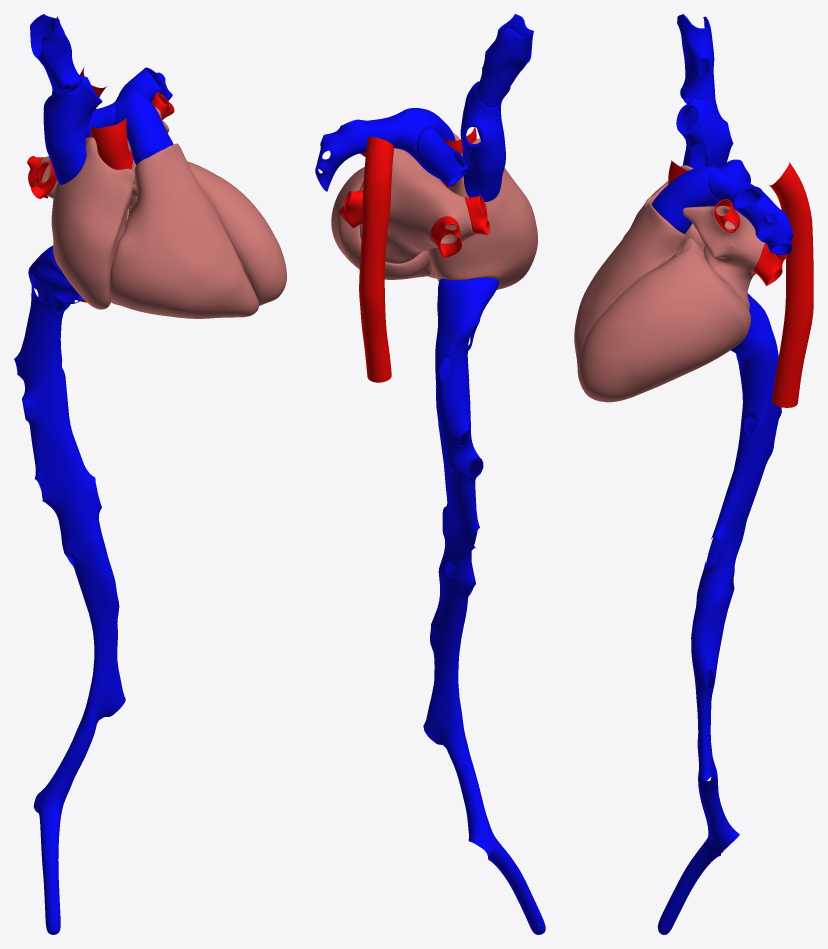
The model's file is heart.glb.
The picture shows the model from 3 angles, left to right: view 1: azimuth 30°, elevation 25°; view 2: azimuth 150°, elevation 25°; view 3: azimuth 270°, elevation 25°; orthographic projection. The views are drawn at different scales.
Visible parts, largest first — view 1: rv, ivc2, ra, lv, svc, ivc, pa, bcv, eil, cil, ao, lpa; view 2: ivc2, ra, dao, la, ivc, svc, bcv, lpa, lv, cil, rpa, eil (+4 smaller); view 3: lv, ivc2, dao, rv, la, lpa, svc, bcv, ivc, pa, cil, eil (+1 smaller).
Boxes of the visible parts, x1,y1,x2,y2 form: rv: [109, 143, 258, 318]; ivc2: [14, 319, 125, 720]; ra: [51, 137, 135, 309]; lv: [128, 161, 286, 305]; svc: [43, 74, 102, 184]; ivc: [28, 245, 83, 332]; pa: [112, 89, 173, 165]; bcv: [30, 14, 80, 93]; eil: [38, 806, 60, 934]; cil: [33, 712, 98, 815]; ao: [90, 118, 133, 169]; lpa: [118, 67, 172, 101]; ivc2: [423, 382, 483, 748]; ra: [428, 138, 537, 289]; dao: [359, 136, 393, 382]; la: [359, 148, 475, 263]; ivc: [435, 277, 498, 389]; svc: [460, 81, 505, 201]; bcv: [476, 14, 533, 107]; lpa: [315, 110, 408, 191]; lv: [331, 167, 431, 279]; cil: [446, 739, 496, 858]; rpa: [416, 126, 468, 185]; eil: [488, 839, 545, 934]; lv: [578, 238, 750, 402]; ivc2: [691, 378, 781, 780]; dao: [769, 162, 813, 407]; rv: [574, 203, 685, 388]; la: [682, 206, 764, 310]; lpa: [708, 168, 793, 254]; svc: [676, 98, 733, 168]; bcv: [677, 14, 716, 103]; ivc: [730, 293, 778, 382]; pa: [651, 166, 725, 233]; cil: [698, 771, 739, 856]; eil: [657, 838, 717, 934].
Bounding box in the file's own units: 0.1332 × 0.5498 × 0.1288.
